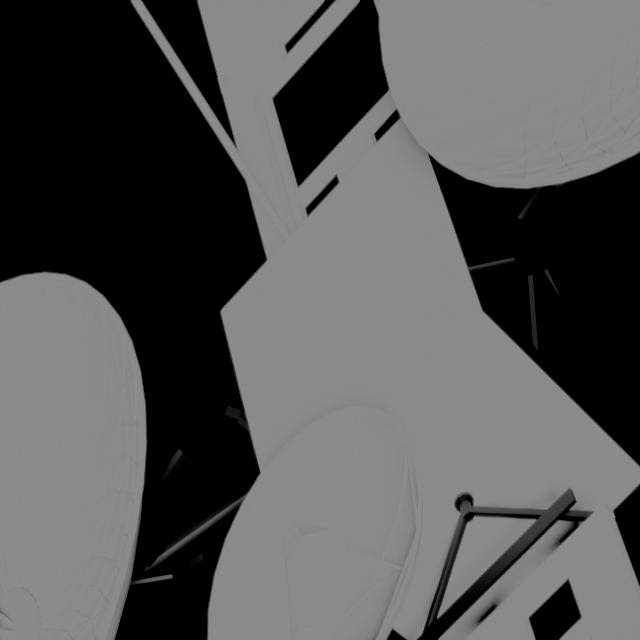satellite: (1, 1, 640, 640)
